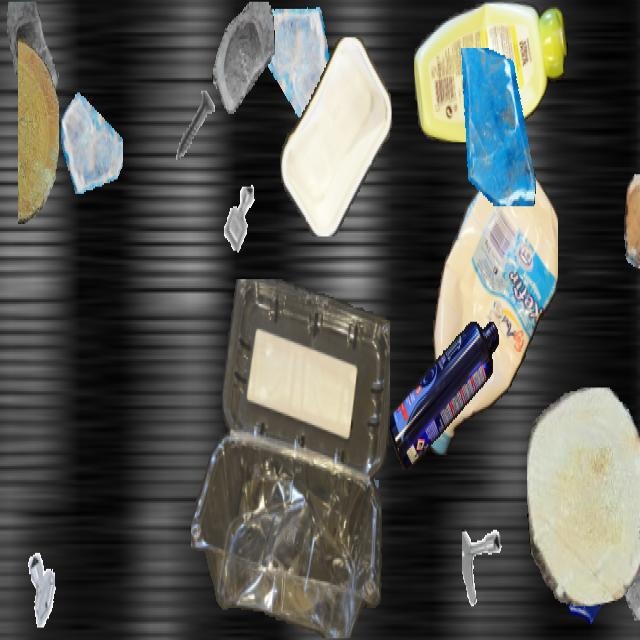glass: (452, 48, 540, 204), (303, 426, 379, 562), (259, 2, 331, 130), (3, 1, 67, 116), (557, 512, 619, 622), (61, 84, 123, 194), (212, 2, 274, 112), (597, 502, 640, 636)
metal: (462, 526, 522, 633), (169, 80, 223, 176), (214, 172, 266, 265), (22, 548, 66, 626)
plastic: (191, 279, 389, 638), (428, 153, 558, 462), (279, 38, 393, 236), (414, 2, 568, 140), (388, 322, 498, 468)
wood: (527, 388, 640, 604), (18, 39, 58, 224), (624, 174, 640, 267)
